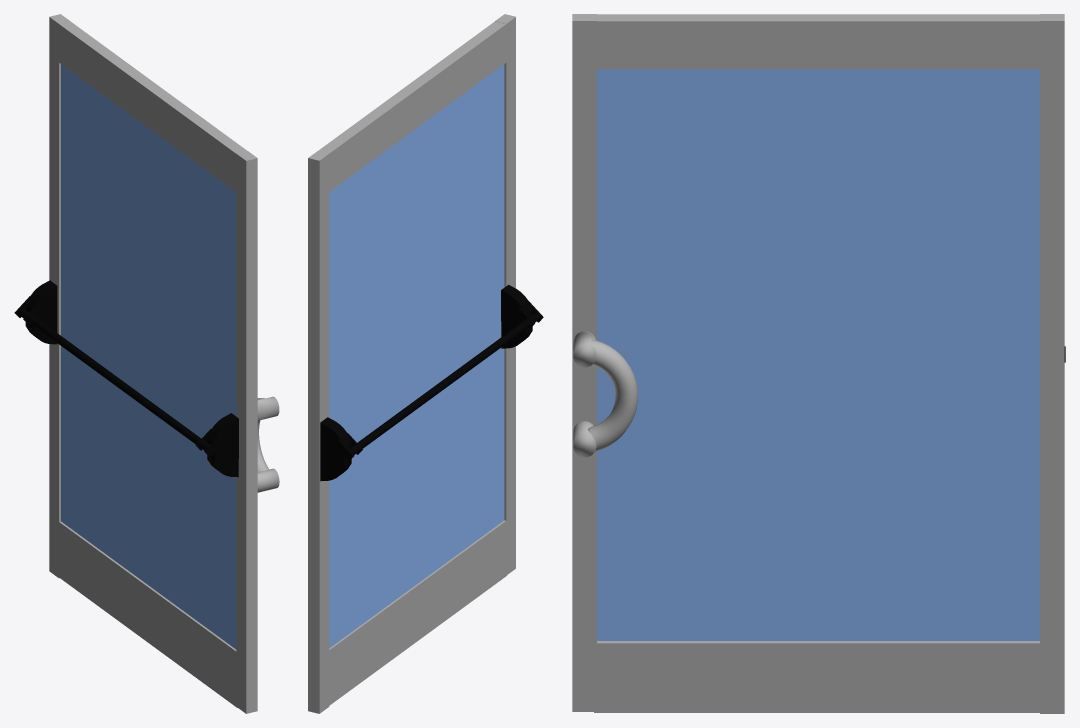
Rendered from PortaIngresso.dae.
3 views of the same model, side by side, from view 1: azimuth 30°, elevation 25°; view 2: azimuth 150°, elevation 25°; view 3: azimuth 270°, elevation 25° (orthographic). The views are drawn at different scales.
Visible parts, largest first — view 1: Cube_072_Cube_323; view 2: Cube_072_Cube_323; view 3: Cube_072_Cube_323.
Boxes of the visible parts, box(x1,y1,x2,y2) form: Cube_072_Cube_323: box(14, 14, 279, 713); Cube_072_Cube_323: box(308, 14, 543, 713); Cube_072_Cube_323: box(572, 14, 1065, 713).
Size of the model in its own units: 0.1597 by 0.8036 by 1.24.
